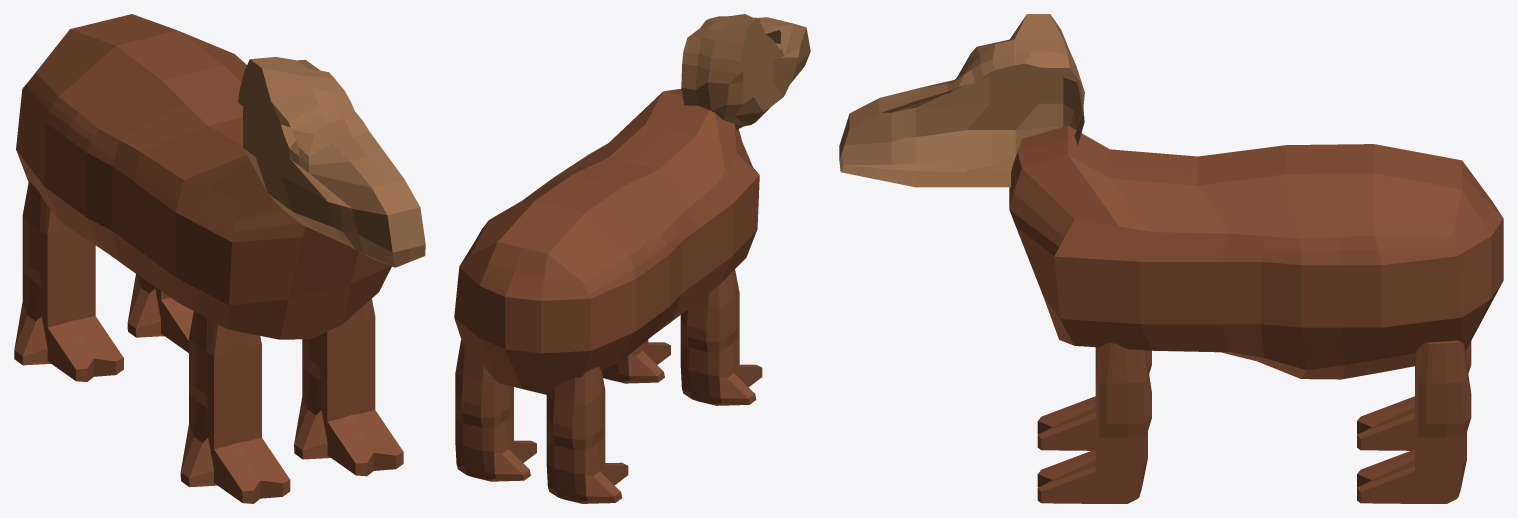
File: capybara.glb
3 renders of one model, left to right at view 1: azimuth 30°, elevation 25°; view 2: azimuth 150°, elevation 25°; view 3: azimuth 270°, elevation 25°, orthographic. The views are drawn at different scales.
Parts seen in each view (by area): view 1: Cube.004; view 2: Cube.004; view 3: Cube.004.
Part boxes in pixels (box(x1,y1,x2,y2)): Cube.004: box(14, 14, 425, 503); Cube.004: box(454, 14, 810, 503); Cube.004: box(839, 14, 1503, 503).
Size of the model in its own units: 10.06 by 21.16 by 29.97.
